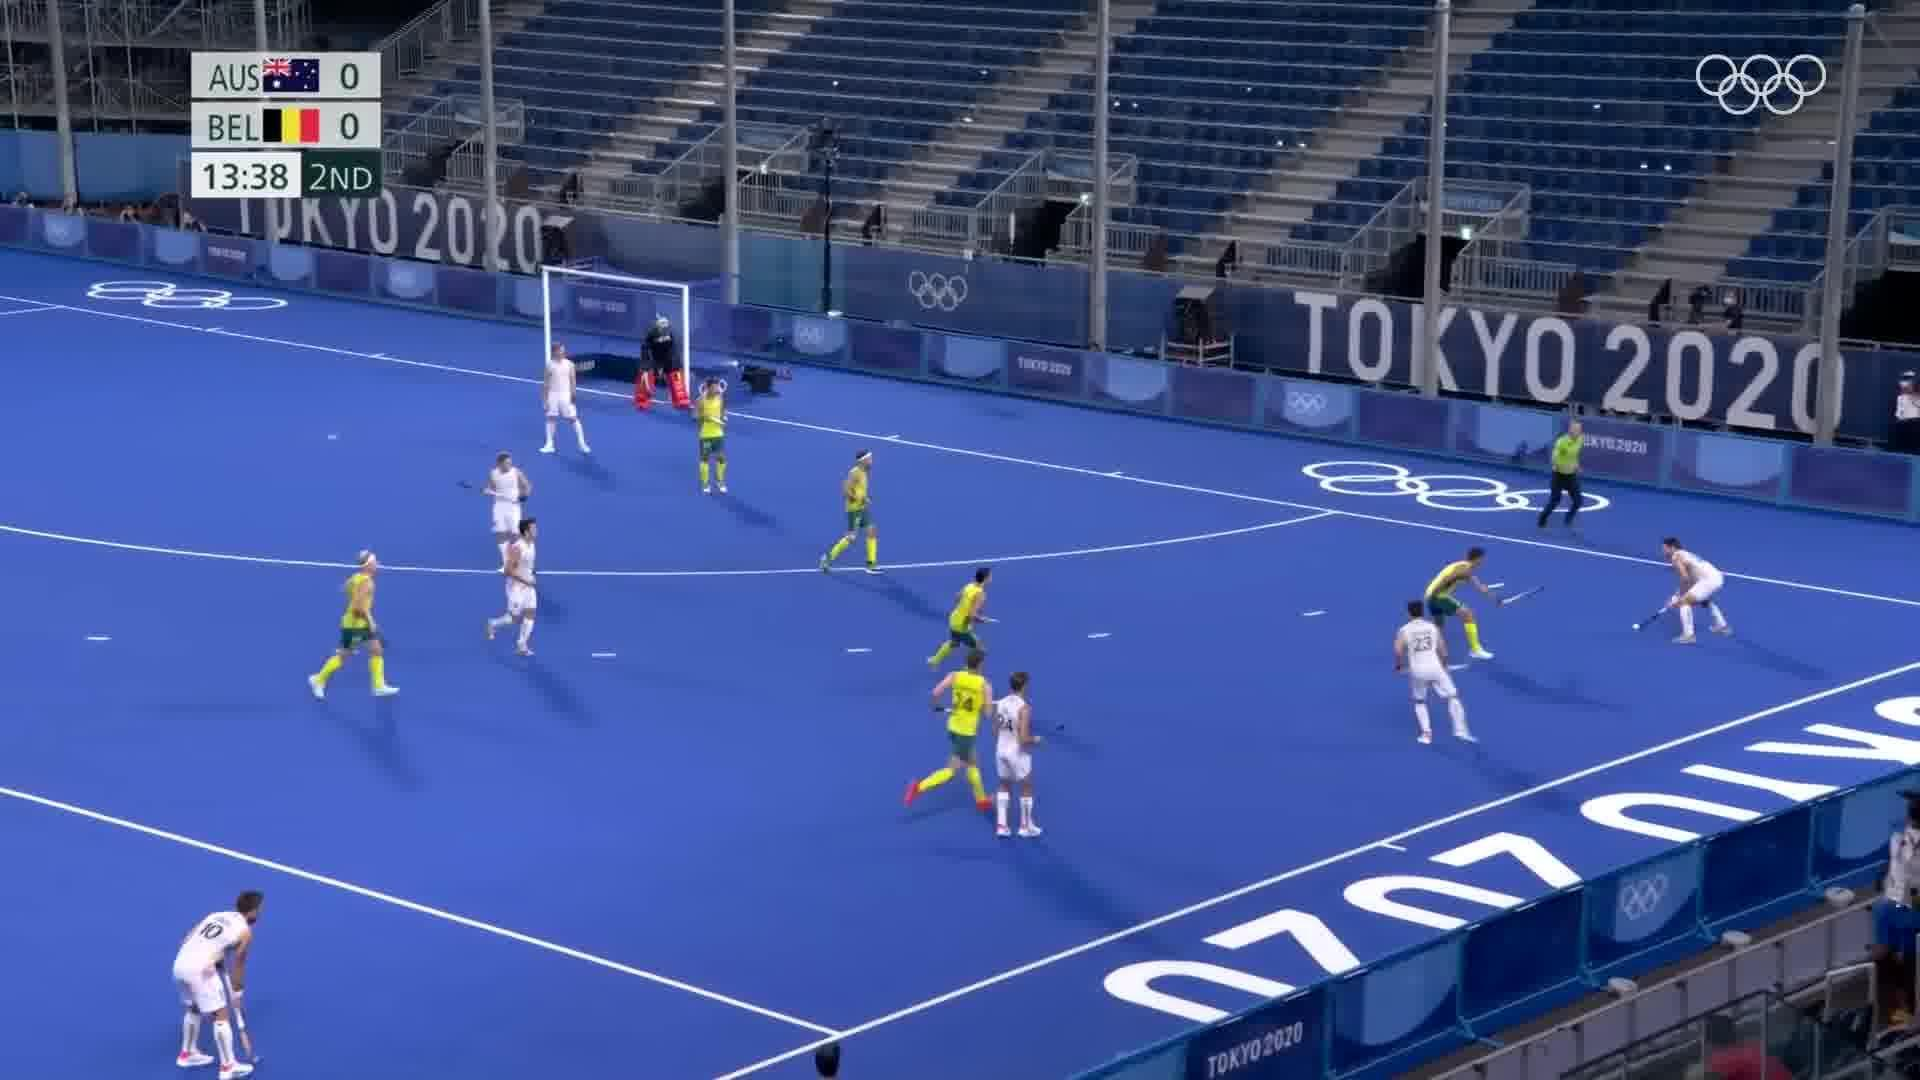ball: (1627, 618, 1644, 638)
